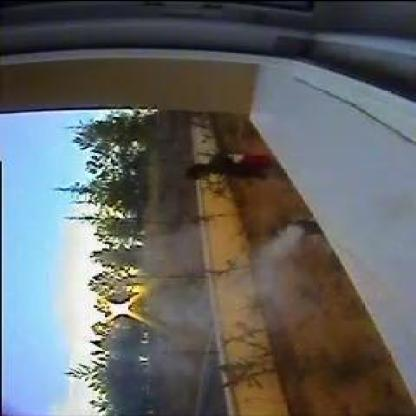-: (252, 224, 302, 300)
